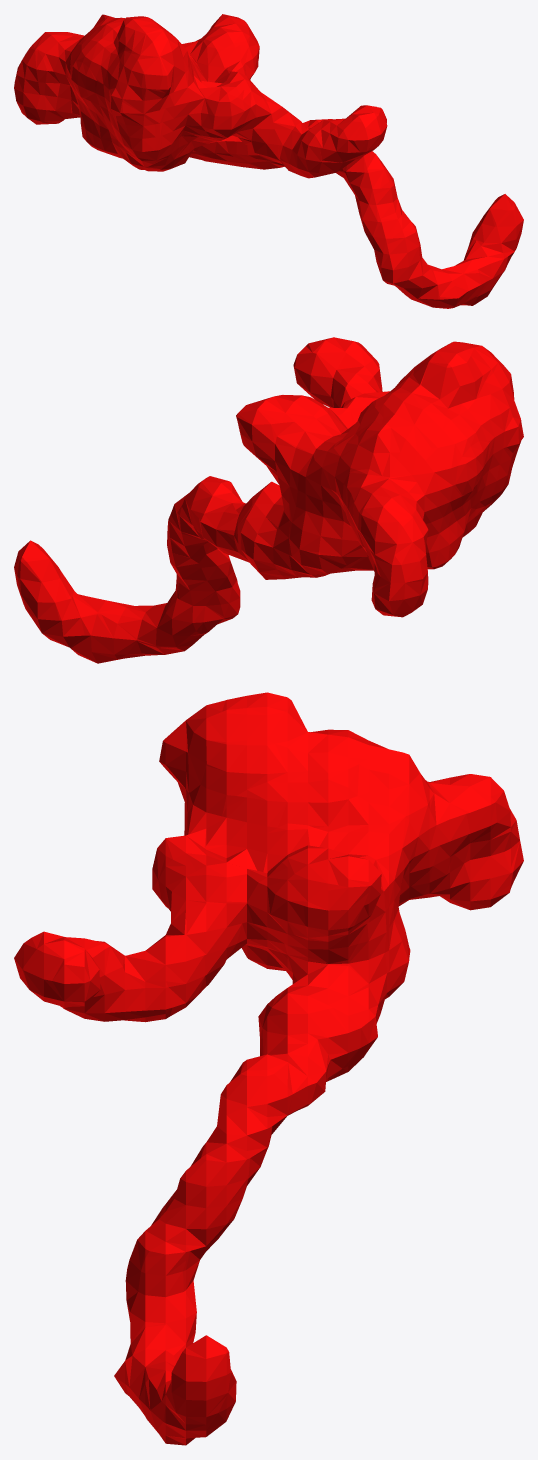
File: nuoB_coarse.dae
The picture shows the model from 3 angles, top to bottom: view 1: azimuth 30°, elevation 25°; view 2: azimuth 150°, elevation 25°; view 3: azimuth 270°, elevation 25°; orthographic projection. The views are drawn at different scales.
Parts seen in each view (by area): view 1: nuoB; view 2: nuoB; view 3: nuoB.
Part boxes in pixels (x1,y1,x2,y2): nuoB: [14, 14, 523, 308]; nuoB: [14, 337, 523, 663]; nuoB: [14, 692, 523, 1445].
Bounding box in the file's own units: 108 × 84.96 × 75.66.
